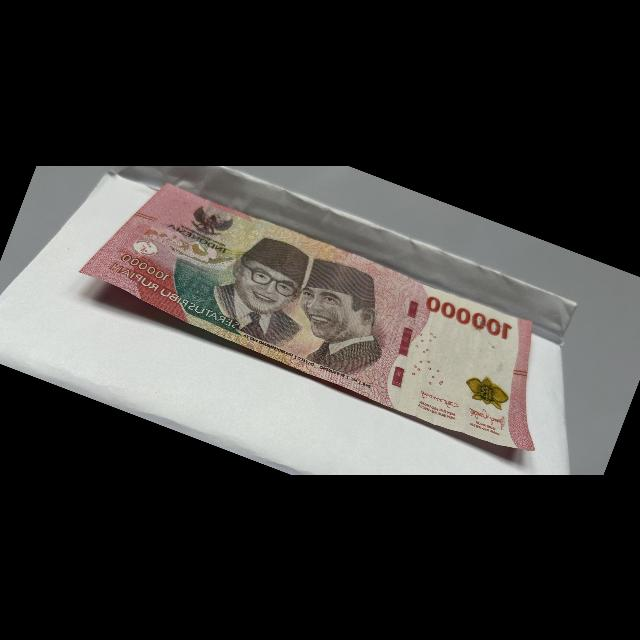Palsu-100k: (64, 157, 586, 469)
Tinta-Palsu-100k: (459, 369, 515, 412)
